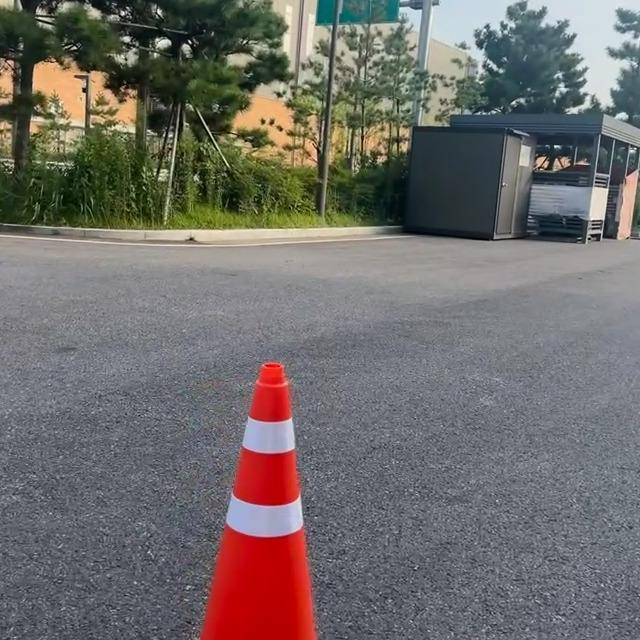fallen_object: (200, 303, 357, 622)
